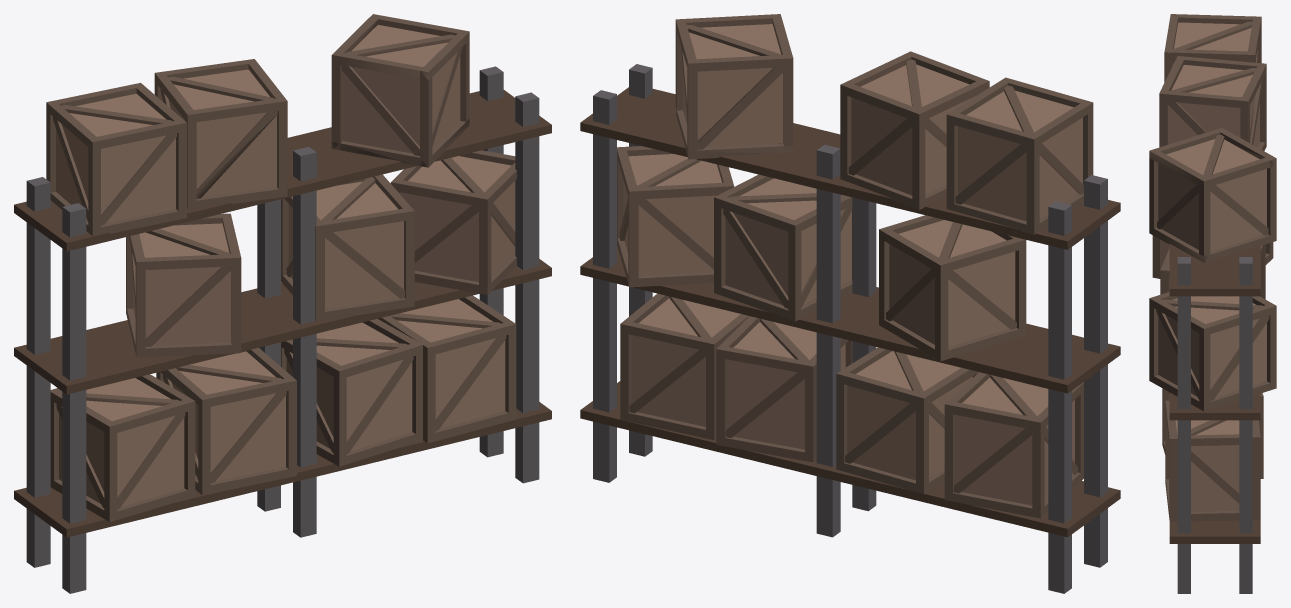
Rendered from tiem-may-ke.glb.
3 views of the same model, side by side, from view 1: azimuth 30°, elevation 25°; view 2: azimuth 150°, elevation 25°; view 3: azimuth 270°, elevation 25° (orthographic). The views are drawn at different scales.
Parts seen in each view (by area): view 1: tiem-may-ke; view 2: tiem-may-ke; view 3: tiem-may-ke.
Part boxes in pixels (x1=…): tiem-may-ke: x1=14, y1=14, x2=551, y2=593; tiem-may-ke: x1=580, y1=14, x2=1120, y2=593; tiem-may-ke: x1=1149, y1=14, x2=1276, y2=593.
Bounding box in the file's own units: 18.1 × 16.05 × 4.76.
